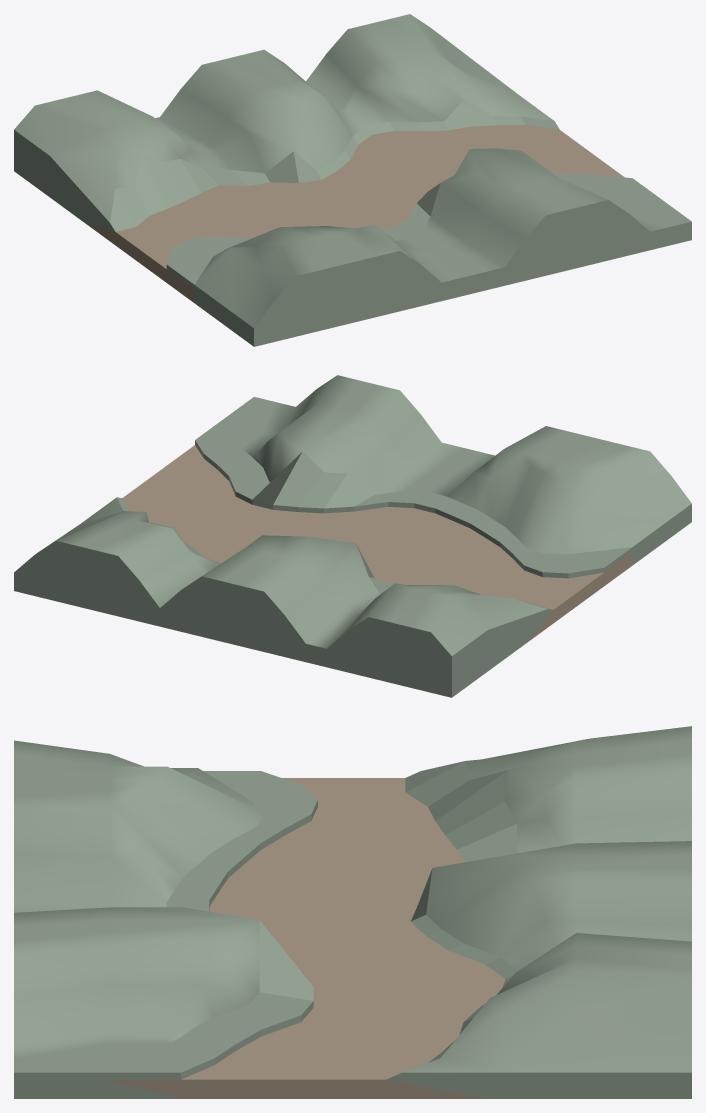
Rendered from page8+9.fbx.
The picture shows the model from 3 angles, top to bottom: view 1: azimuth 30°, elevation 25°; view 2: azimuth 150°, elevation 25°; view 3: azimuth 270°, elevation 25°; orthographic projection. The views are drawn at different scales.
Parts seen in each view (by area): view 1: page8_9; view 2: page8_9; view 3: page8_9.
Part boxes in pixels (left/top/right/bottom): page8_9: left=14, top=14, right=691, bottom=346; page8_9: left=14, top=375, right=691, bottom=697; page8_9: left=14, top=726, right=691, bottom=1098.
Size of the model in its own units: 16.84 by 2.22 by 16.
